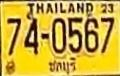0: (51, 17, 65, 53)
4: (24, 18, 38, 54)
5: (67, 16, 82, 52)
6: (84, 17, 98, 52)
7: (6, 17, 20, 54), (100, 17, 114, 52)
CBI: (45, 56, 77, 75)
